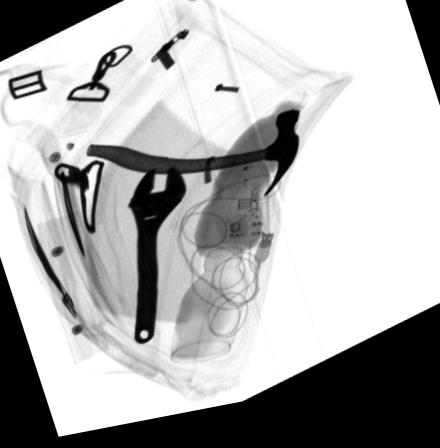Hammer: (84, 120, 299, 208)
Wrench: (128, 174, 186, 349)
